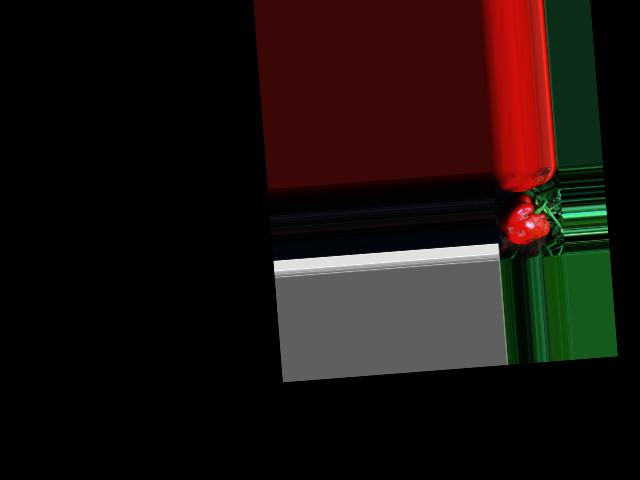bell_pepper: (493, 191, 555, 244)
